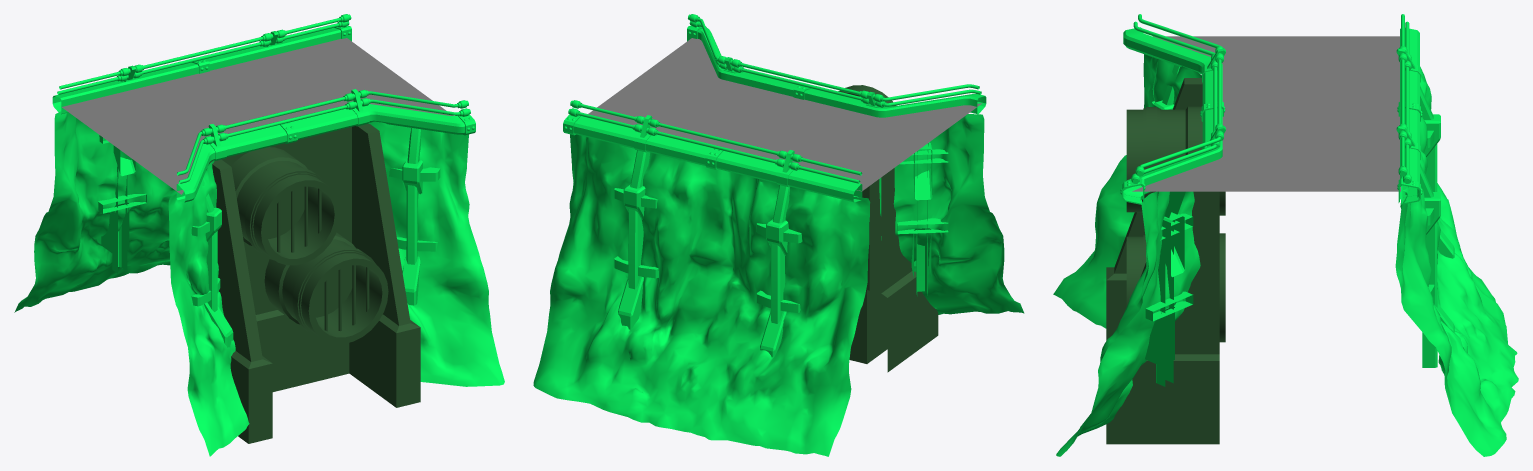
File: Track_06_R.fbx
3 views of the same model, side by side, from view 1: azimuth 30°, elevation 25°; view 2: azimuth 150°, elevation 25°; view 3: azimuth 270°, elevation 25° (orthographic). The views are drawn at different scales.
Parts seen in each view (by area): view 1: Side_Rock_008, side_parts_06, Road_008; view 2: Side_Rock_008, Road_008, side_parts_06; view 3: Side_Rock_008, Road_008, side_parts_06.
Boxes of the visible parts, x1,y1,x2,y2 form: Side_Rock_008: [14, 14, 504, 456]; side_parts_06: [206, 123, 420, 443]; Road_008: [62, 38, 452, 194]; Side_Rock_008: [533, 14, 1024, 456]; Road_008: [588, 38, 981, 191]; side_parts_06: [838, 85, 938, 372]; Side_Rock_008: [1053, 14, 1518, 456]; Road_008: [1132, 36, 1400, 191]; side_parts_06: [1106, 78, 1225, 444].
Size of what is drawn, in the model's own units: 3159 by 3802 by 2790.
